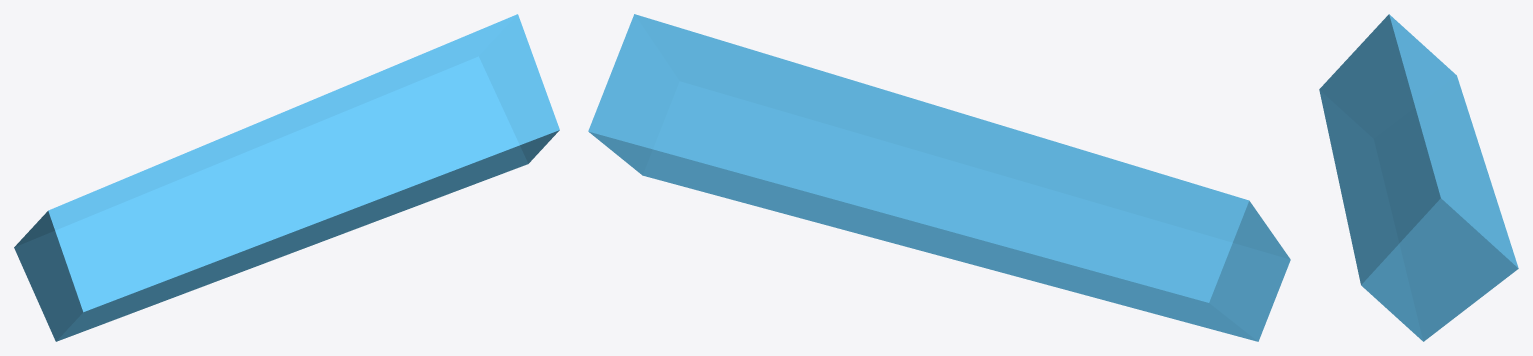
File: Event_421115418_HErechit_70.fbx
3 renders of one model, left to right at view 1: azimuth 30°, elevation 25°; view 2: azimuth 150°, elevation 25°; view 3: azimuth 270°, elevation 25°, orthographic. The views are drawn at different scales.
Visible parts, largest first — view 1: Model; view 2: Model; view 3: Model.
Part boxes in pixels (left/top/right/bottom): Model: left=14, top=14, right=559, bottom=341; Model: left=588, top=14, right=1290, bottom=341; Model: left=1319, top=14, right=1518, bottom=341.
Bounding box in the file's own units: 1.5 × 0.5234 × 0.5234.
